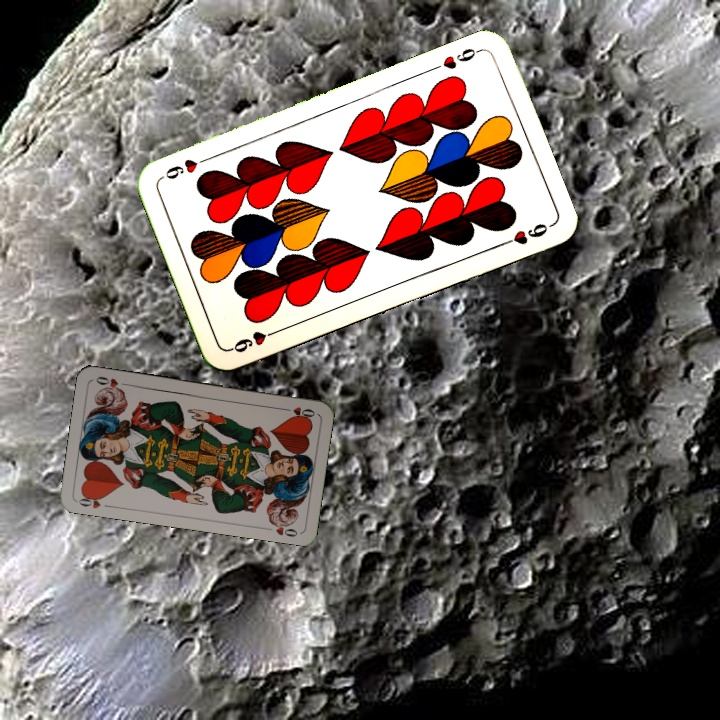H9: (226, 325, 283, 356), (438, 44, 484, 72)
HO: (74, 490, 114, 511), (277, 403, 317, 420)
